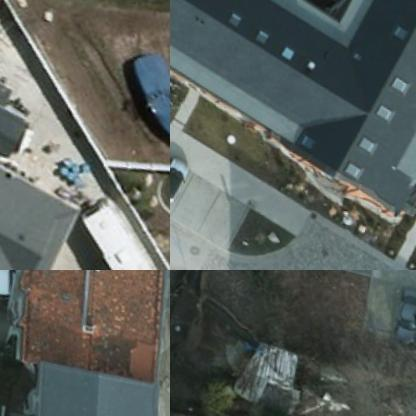boat: (109, 40, 169, 160)
camping car: (56, 179, 169, 269)
car: (383, 281, 415, 345), (170, 152, 188, 207), (0, 270, 19, 302)
